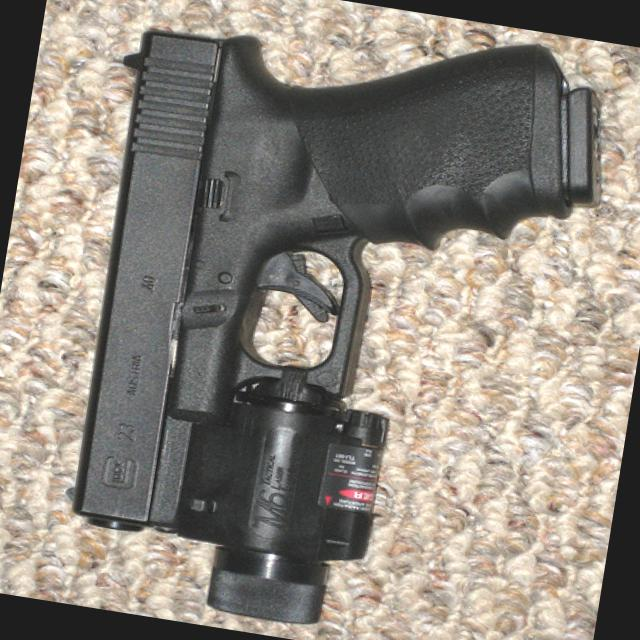handgun: (38, 0, 624, 639)
